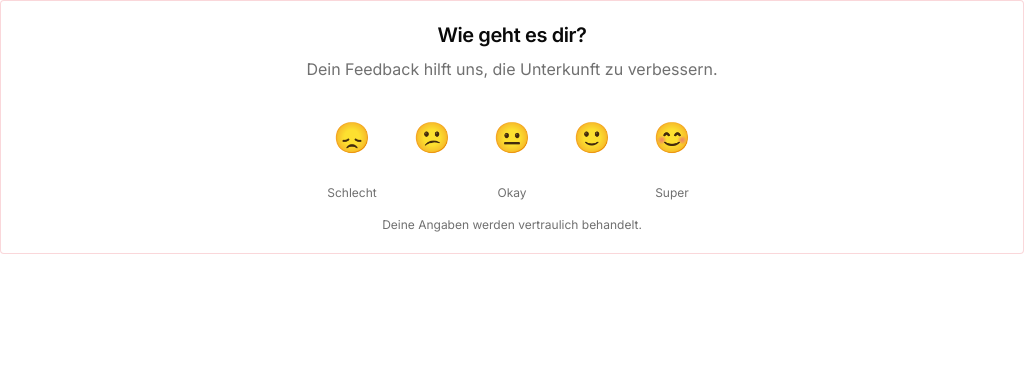
it: SatisfactionRating › shows error alert when fetch returns non-ok response
Click the button named "Neutral". click: (512, 137)
box: x1=480 y1=105 x2=544 y2=169
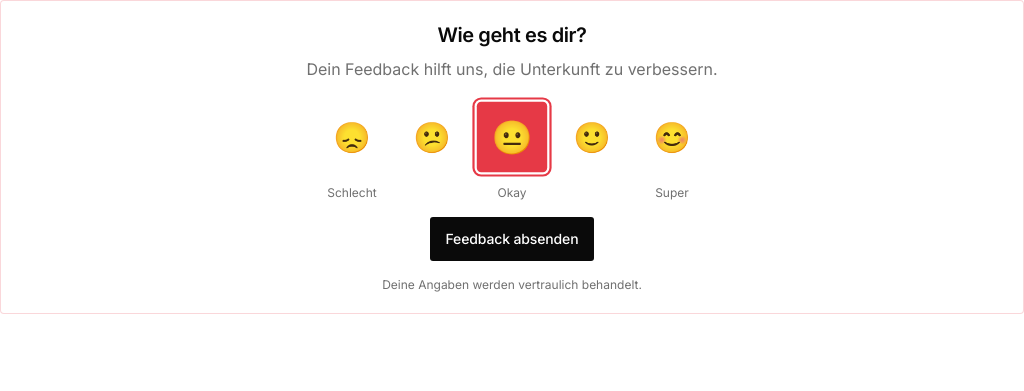
Click the button "Feedback absenden". click: (512, 239)
box: x1=430 y1=217 x2=594 y2=261
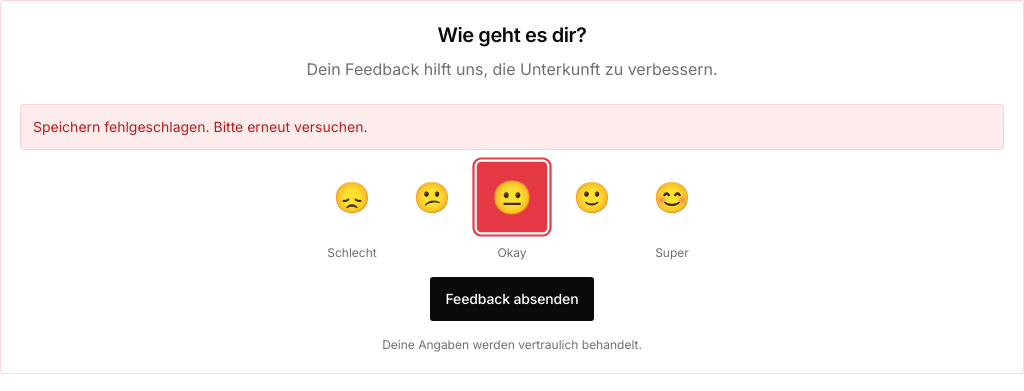
Expected: the heading "Wie geht es dir?" is shown, x1=437 y1=23 x2=587 y2=47
Expected: the message reads "Speichern fehlgeschlagen. Bitte erneut versuchen.", x1=33 y1=118 x2=368 y2=135
